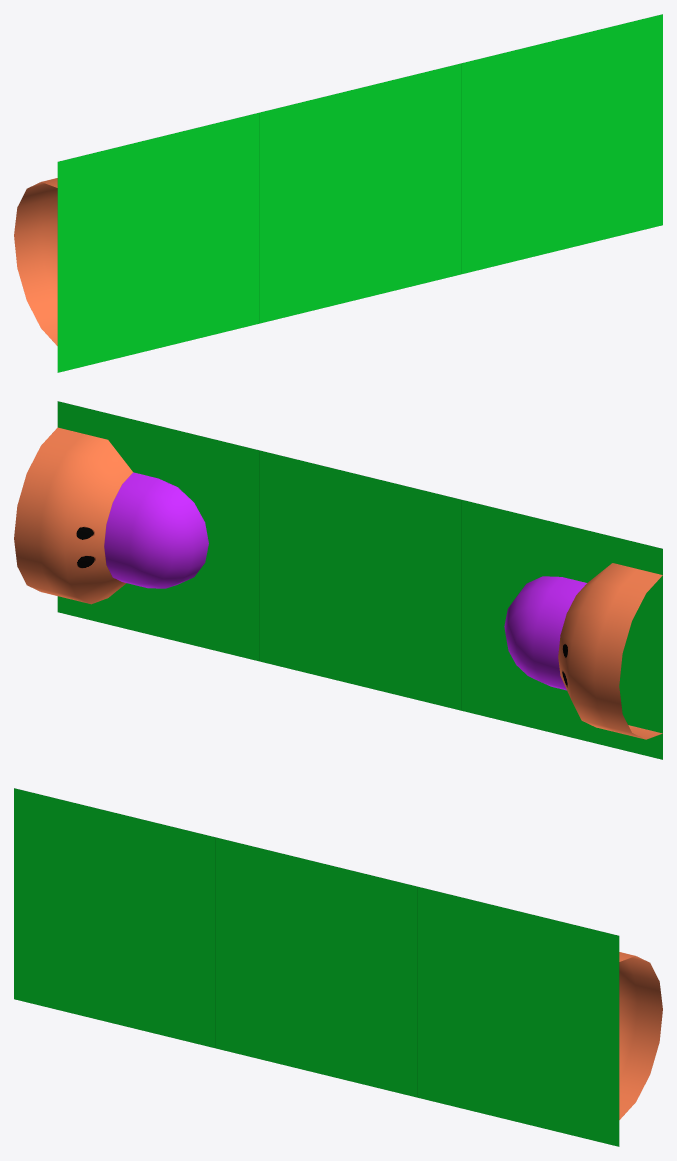
The model's file is 1x3_Dbl.fbx.
The picture shows the model from 3 angles, top to bottom: view 1: azimuth 30°, elevation 25°; view 2: azimuth 150°, elevation 25°; view 3: azimuth 330°, elevation 25°; orthographic projection.
Parts seen in each view (by area): view 1: Panel_1x3_Dbl_End; view 2: Panel_1x3_Dbl_End; view 3: Panel_1x3_Dbl_End.
Boxes of the visible parts, <box> form: Panel_1x3_Dbl_End: <box>14,14,662,372</box>; Panel_1x3_Dbl_End: <box>14,401,662,759</box>; Panel_1x3_Dbl_End: <box>14,788,662,1146</box>.
Size of the model in its own units: 300 by 100 by 37.5.
